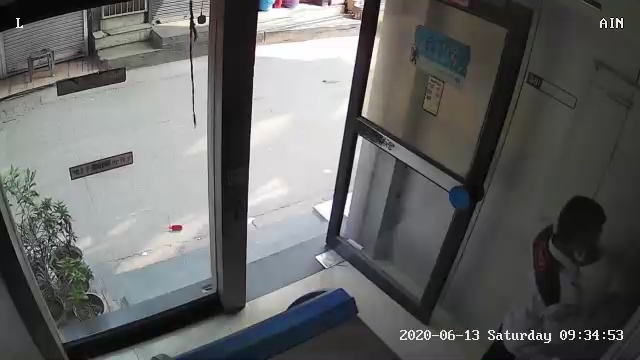open: (187, 4, 541, 323)
